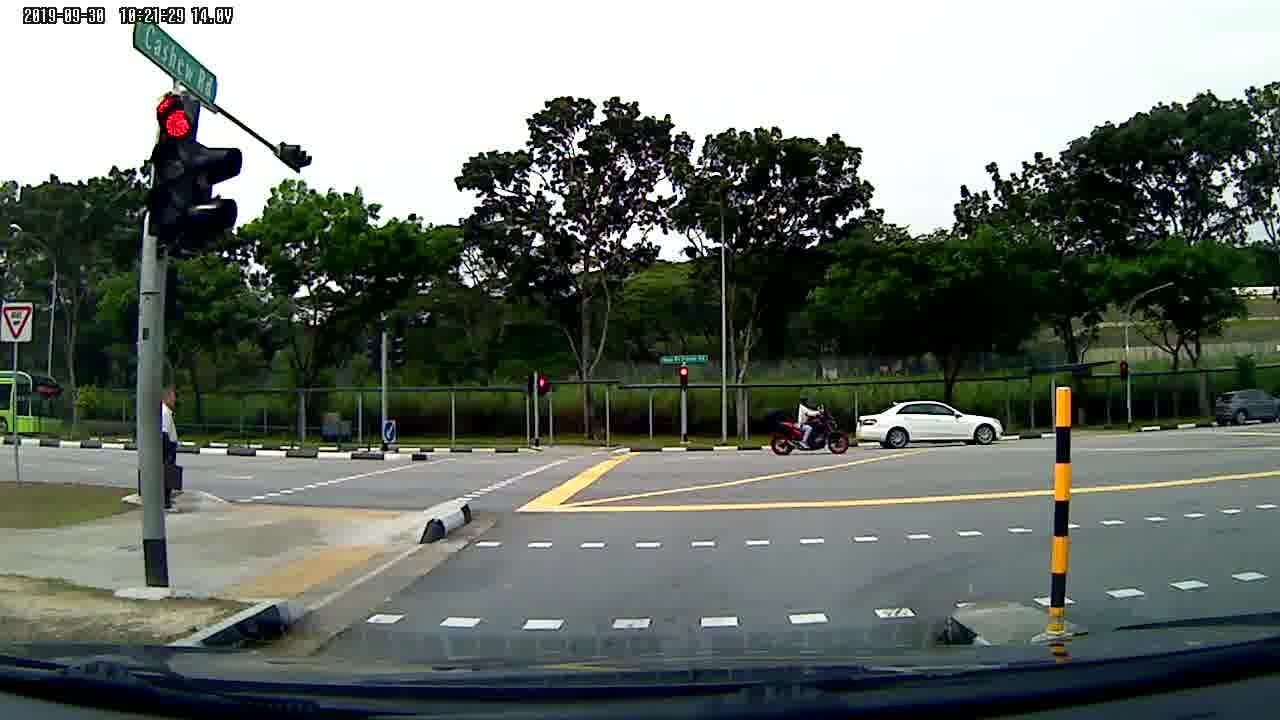bus: (1, 365, 66, 443)
car: (856, 400, 1009, 444), (1209, 388, 1280, 425)
